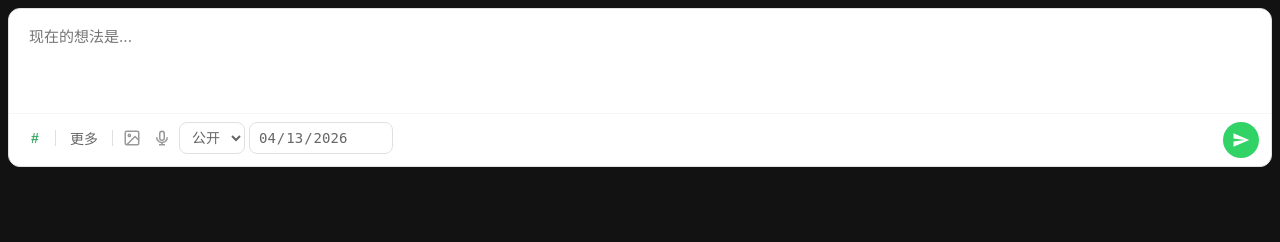
MemoComposer voice note flow › shows recording duration and cancel control while recording
Click the button named "录音": point(162, 138) [149, 125, 175, 151]
Wait 3000 ms
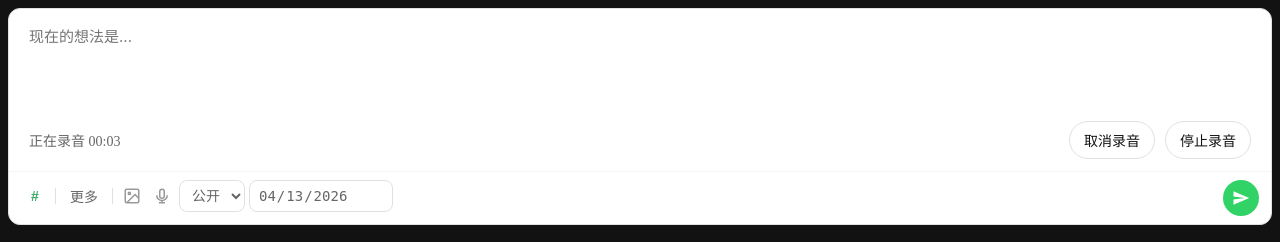
Expected: the button "停止录音" is shown, [1165, 121, 1251, 159]
Expected: the text "正在录音 00:03" is shown, [29, 134, 120, 149]
Click the button "取消录音": point(1112, 140) [1069, 121, 1155, 159]
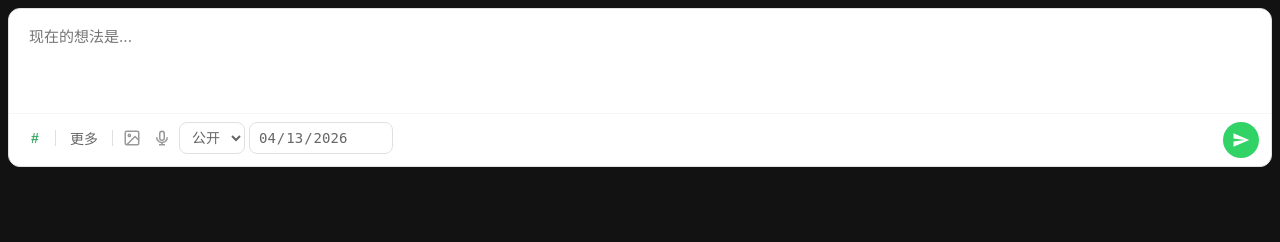
Expected: the button "停止录音" is gone
